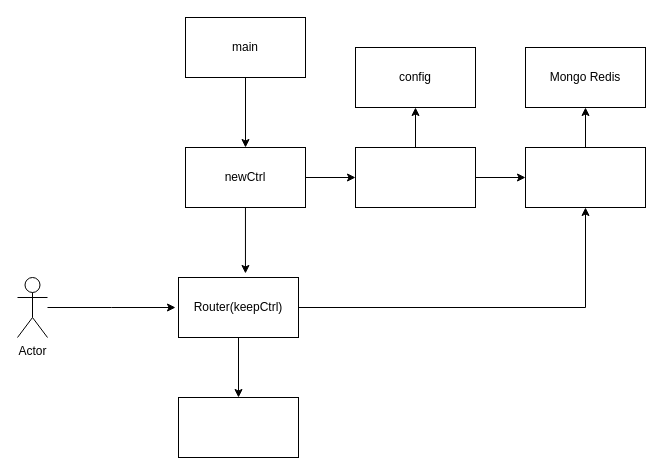
The diagram is 663 pixels wide and 475 high, and some of its shapes have lost their labels. Here are the shapes that lost their labels. From the top down, the centre of each, then its label:
At point (415, 177): "configer".
At point (585, 177): "daler".
At point (238, 427): "hertz.Spin()".
